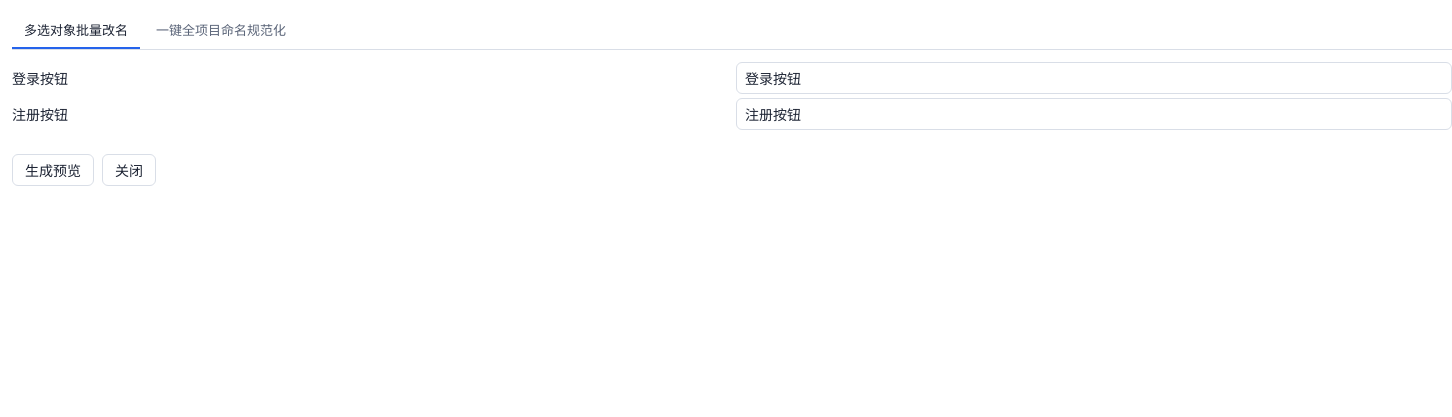
Test: BatchRenameDialog › 执行后更新注册表项
Replace the text in the field named "登录按钮 的新名称" with "登录提交" at [1094, 78], box [745,63,1443,93]
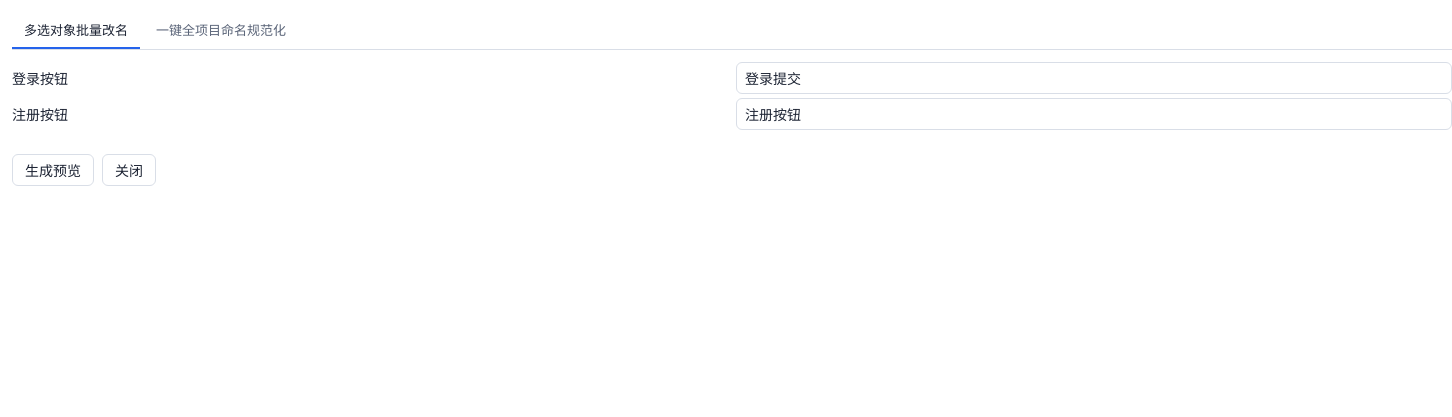
Replace the text in the field named "注册按钮 的新名称" with "注册提交" at [1094, 114], box [745,99,1443,129]
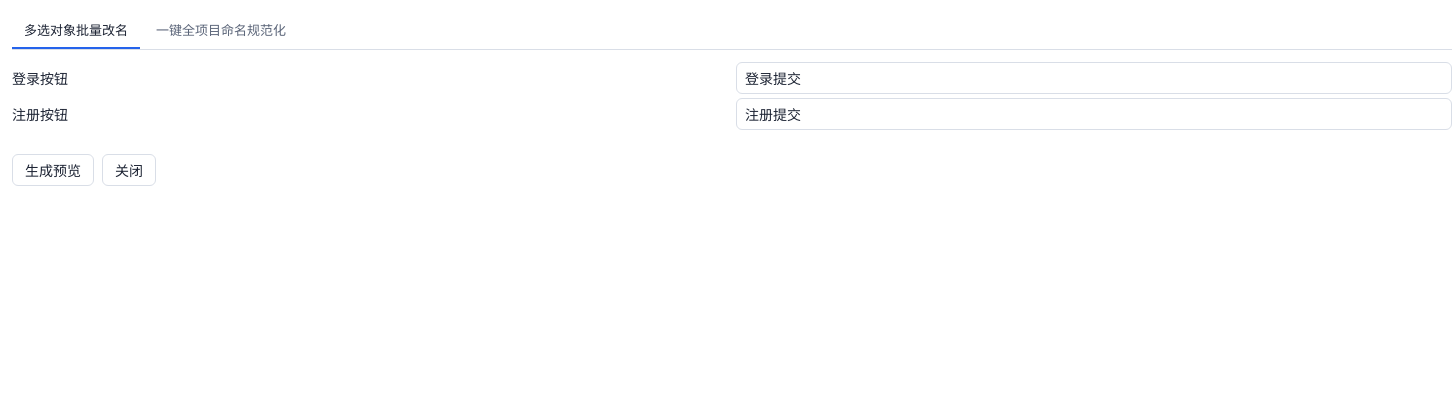
Click the button with test id "batch-plan" at [53, 170], box [12,154,94,186]
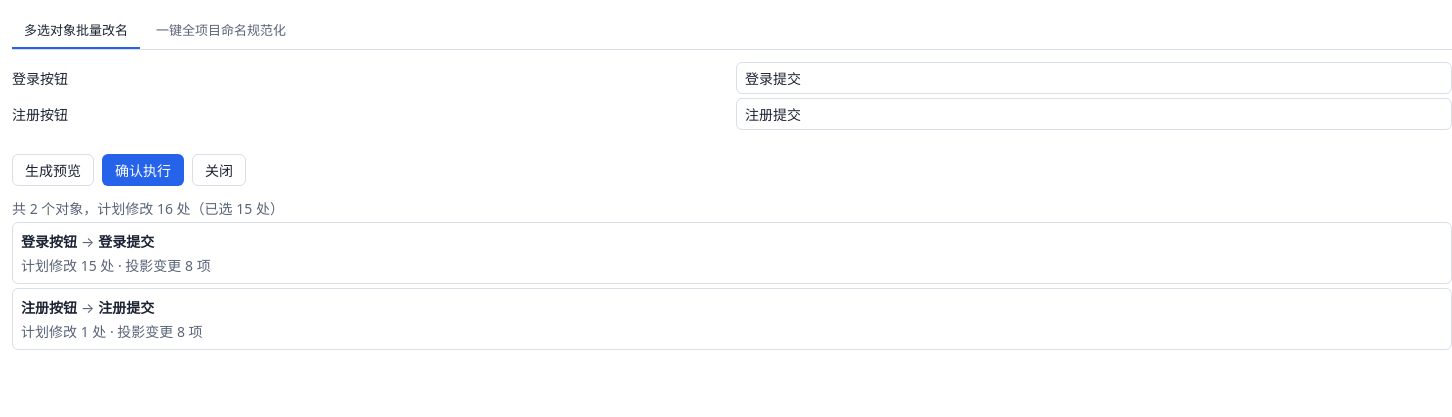
Click the button with test id "batch-execute" at [143, 170], box [102,154,184,186]
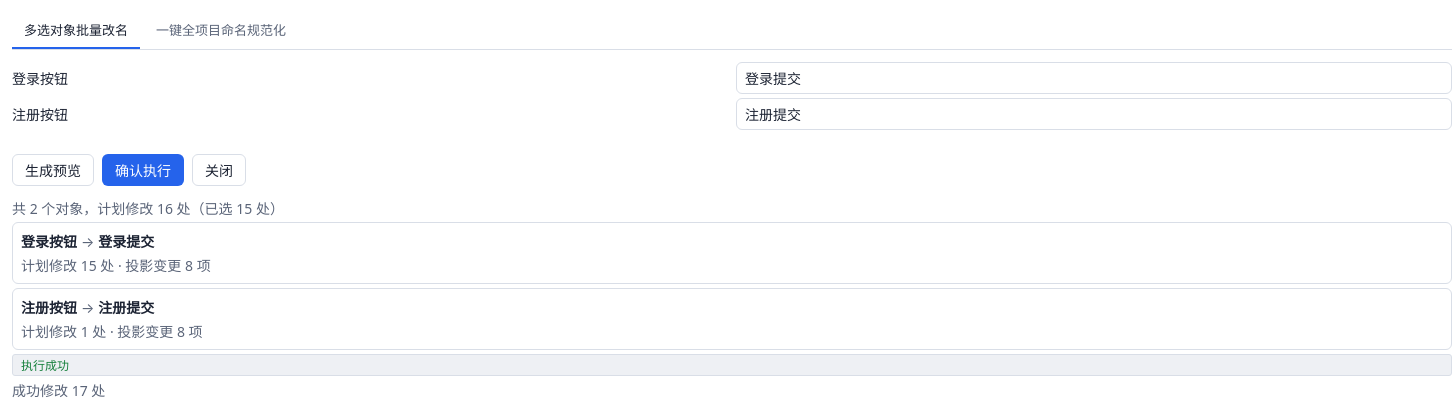
Expected: the text "登录提交" is shown, [98,231,154,251]
Expected: the text "注册提交" is shown, [98,297,154,317]
Expected: the element with test id "batch-result" is shown, [12,354,1451,400]
